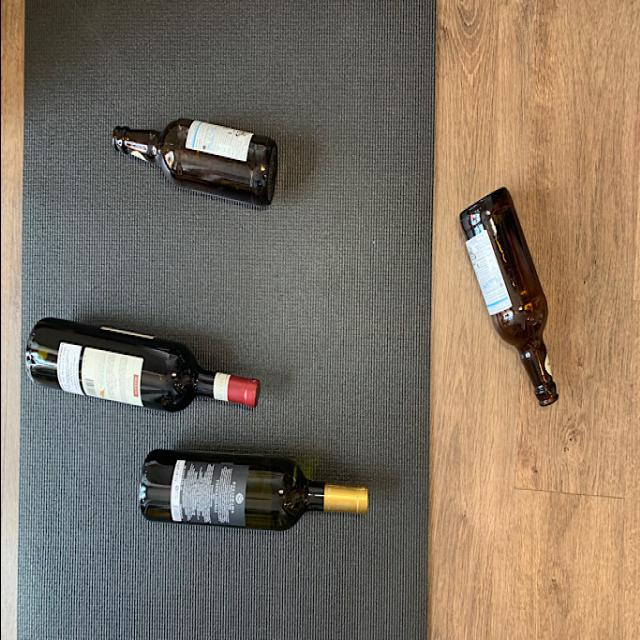Glass Bottle: (455, 186, 563, 419), (22, 316, 260, 420), (133, 446, 374, 536), (113, 114, 281, 208)
